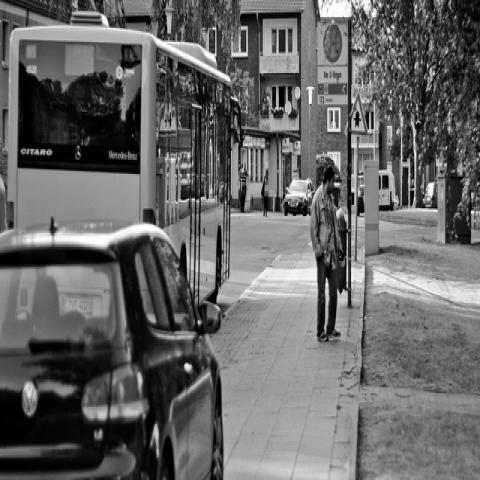bus: (6, 12, 244, 311)
car: (0, 223, 224, 478), (357, 169, 399, 209), (282, 178, 316, 219), (424, 182, 438, 208)
